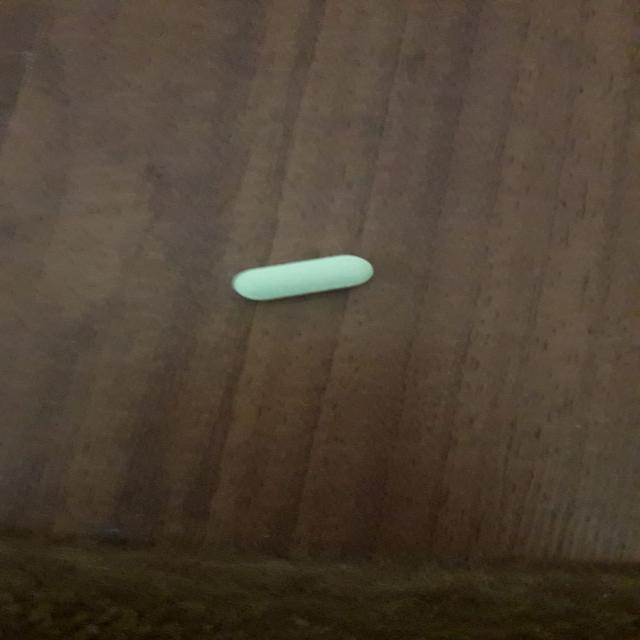pills: (218, 238, 392, 310)
